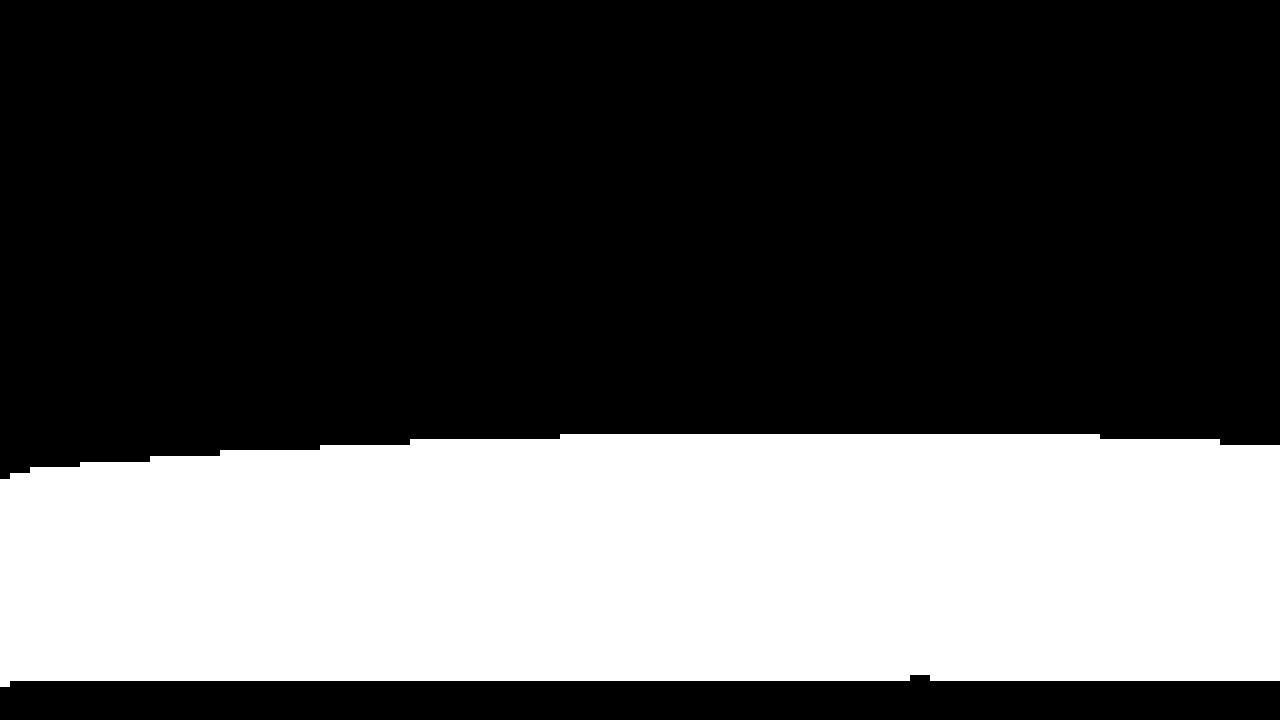Turbine: (9, 428, 1269, 696)
